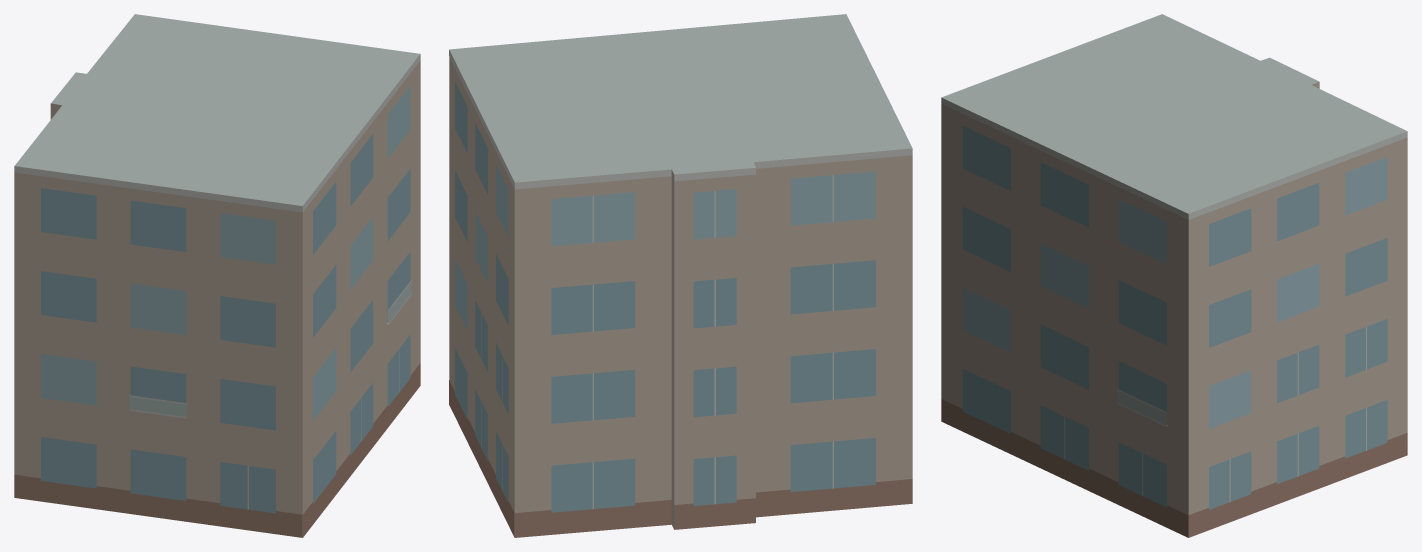
File: survey-upis-32744925.glb
3 views of the same model, side by side, from view 1: azimuth 30°, elevation 25°; view 2: azimuth 150°, elevation 25°; view 3: azimuth 270°, elevation 25° (orthographic). The views are drawn at different scales.
Visible parts, largest first — view 1: survey-upis-32744925.tmp; view 2: survey-upis-32744925.tmp; view 3: survey-upis-32744925.tmp.
Boxes of the visible parts, <box> form: survey-upis-32744925.tmp: <box>14,14,420,537</box>; survey-upis-32744925.tmp: <box>449,14,912,537</box>; survey-upis-32744925.tmp: <box>941,14,1407,537</box>.
Bounding box in the file's own units: 16.94 × 12.8 × 16.71.
